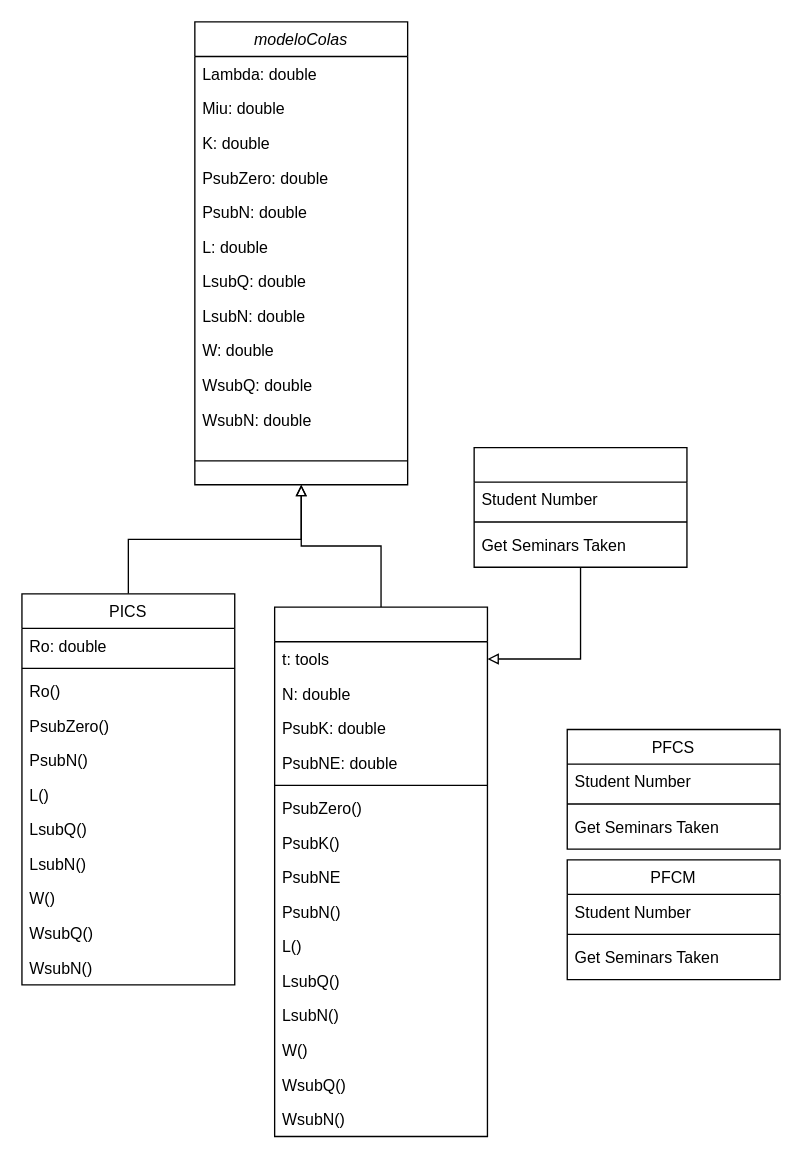
This 802x1158 diagram has some shape labels left out. The shapes that lost their labels are listed below. From the top down, each one's box as (x1, y1, x2, y2) in pixels, then its label:
(473, 446, 687, 567): tools
(273, 606, 487, 1136): PICM
